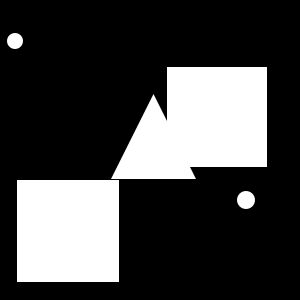circle: (17, 180, 119, 282), (167, 67, 267, 167)
rectangle: (237, 191, 255, 209), (7, 33, 23, 49)
triangle: (111, 94, 196, 179)
